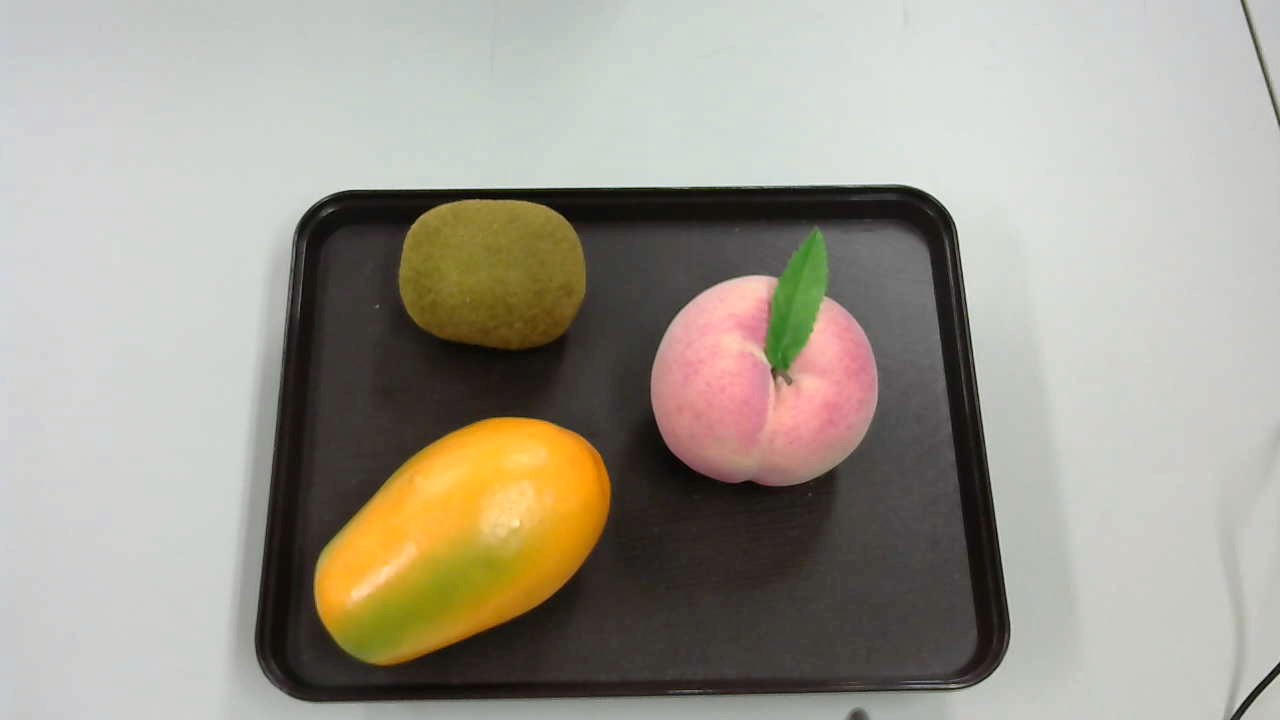kiwi fruit: (391, 194, 591, 352)
papya: (307, 412, 616, 670)
peach: (651, 227, 881, 496)
